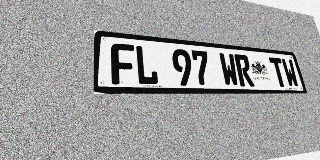7: (190, 50, 213, 86)
9: (171, 48, 194, 86)
F: (111, 43, 136, 85)
L: (135, 45, 159, 85)
R: (234, 54, 255, 87)
T: (269, 57, 288, 87)
W: (218, 53, 240, 86), (281, 58, 300, 87)
